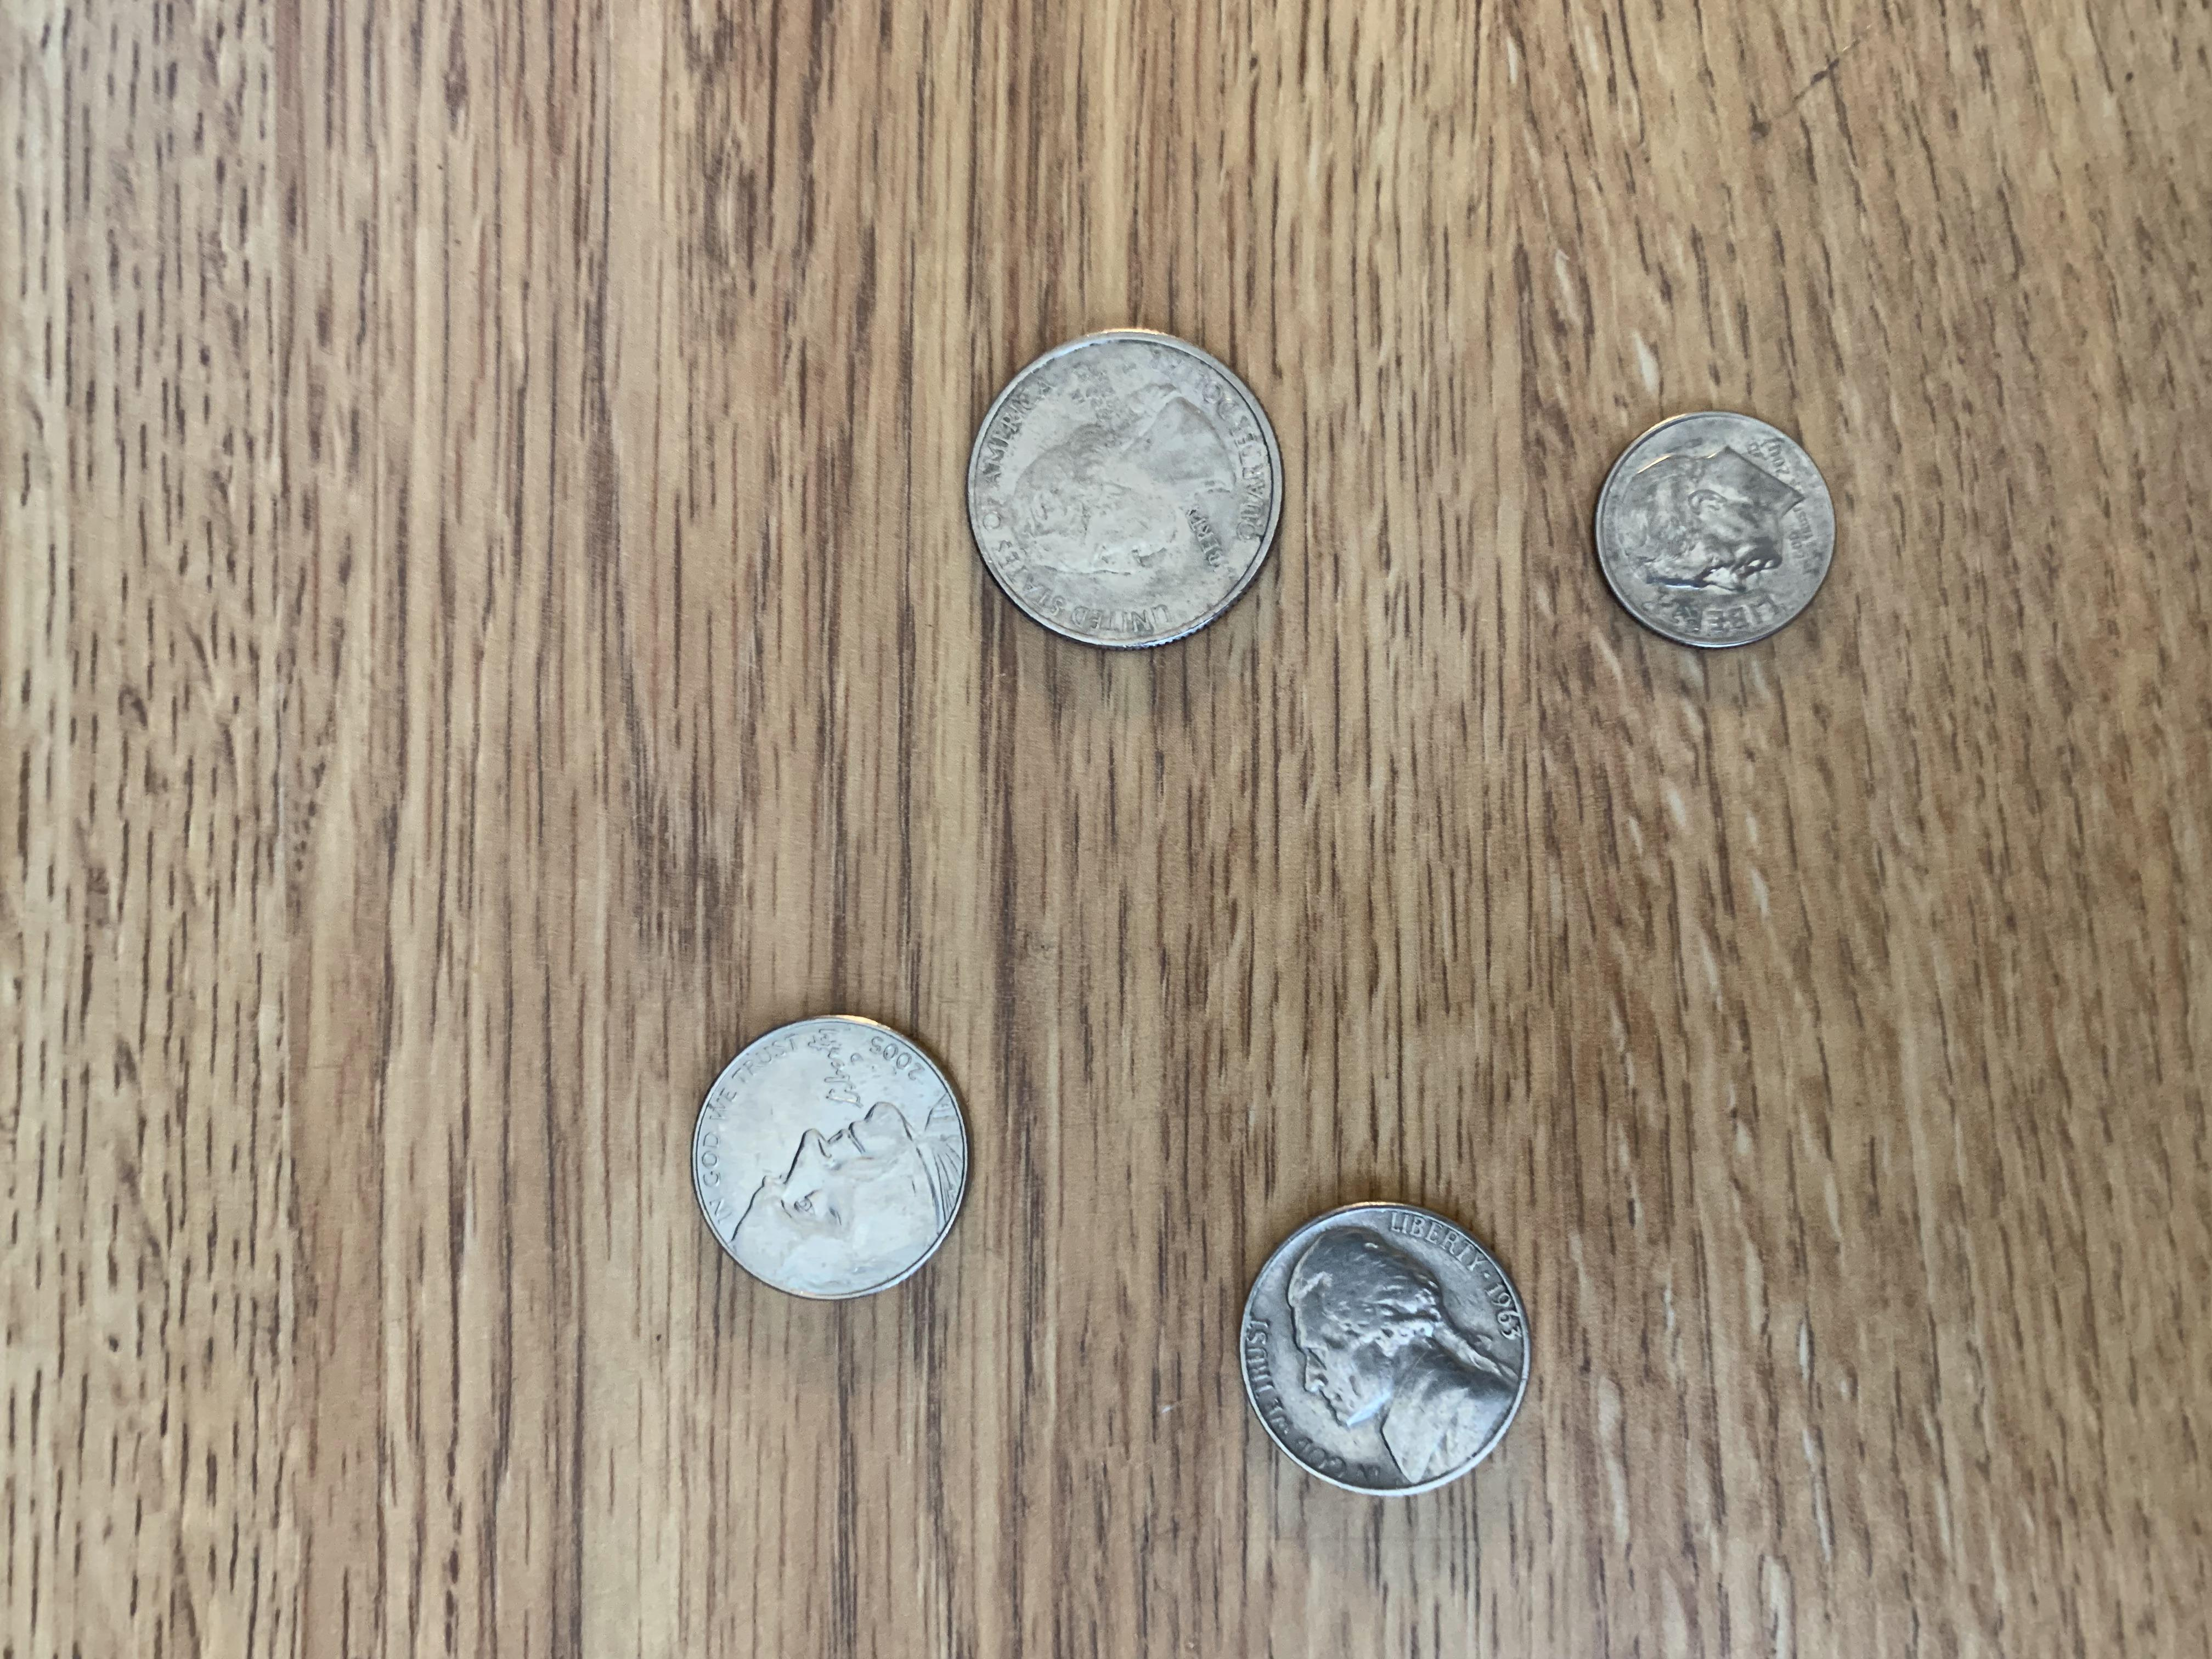Dime: (1590, 406, 1843, 660)
Nickel: (1228, 1199, 1529, 1504), (683, 1006, 981, 1310)
Quarter: (949, 315, 1298, 659)
